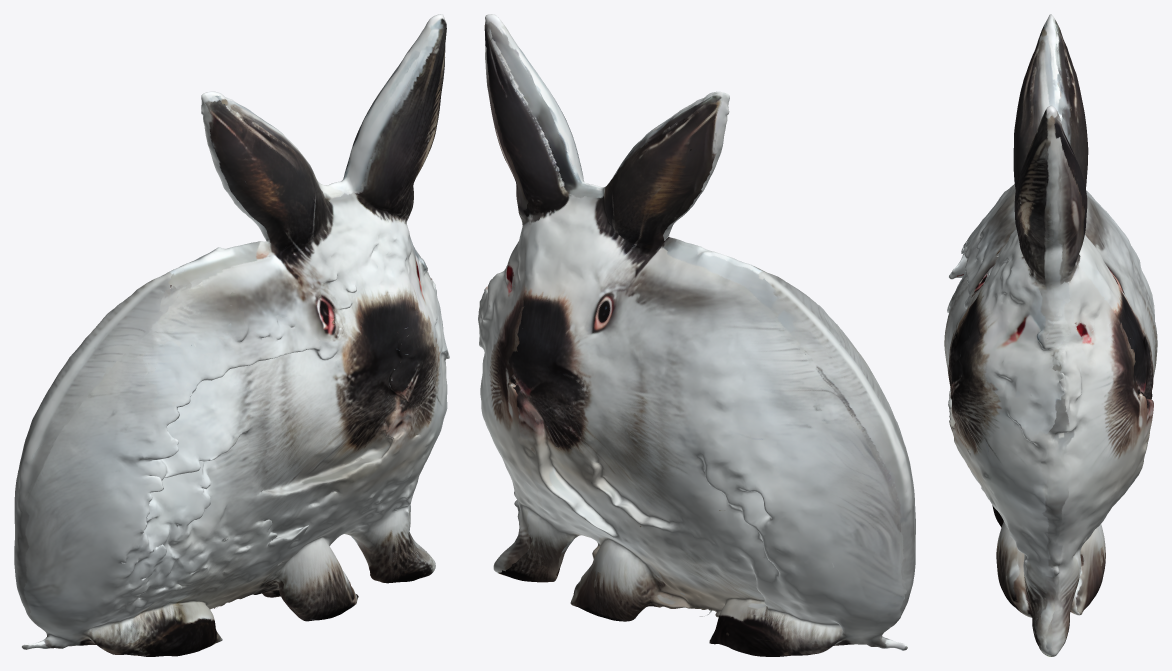
The model's file is adulto.glb.
The picture shows the model from 3 angles, left to right: view 1: azimuth 30°, elevation 25°; view 2: azimuth 150°, elevation 25°; view 3: azimuth 270°, elevation 25°; orthographic projection.
Parts seen in each view (by area): view 1: mesh; view 2: mesh; view 3: mesh.
Boxes of the visible parts, x1=… form: mesh: x1=14, y1=14, x2=449, y2=656; mesh: x1=478, y1=14, x2=915, y2=656; mesh: x1=944, y1=14, x2=1157, y2=656.
Size of the model in its own units: 1.26 by 1.57 by 0.5452.
1 material, 1 textured.
